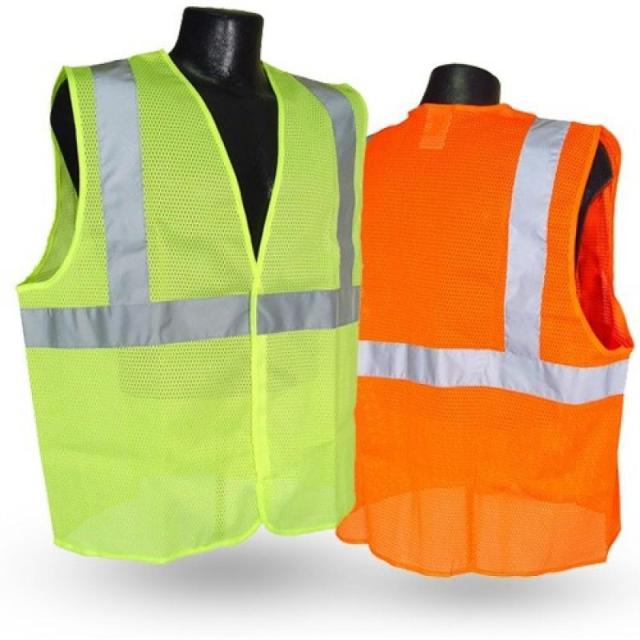Vest: (12, 41, 370, 562), (332, 100, 633, 575)
